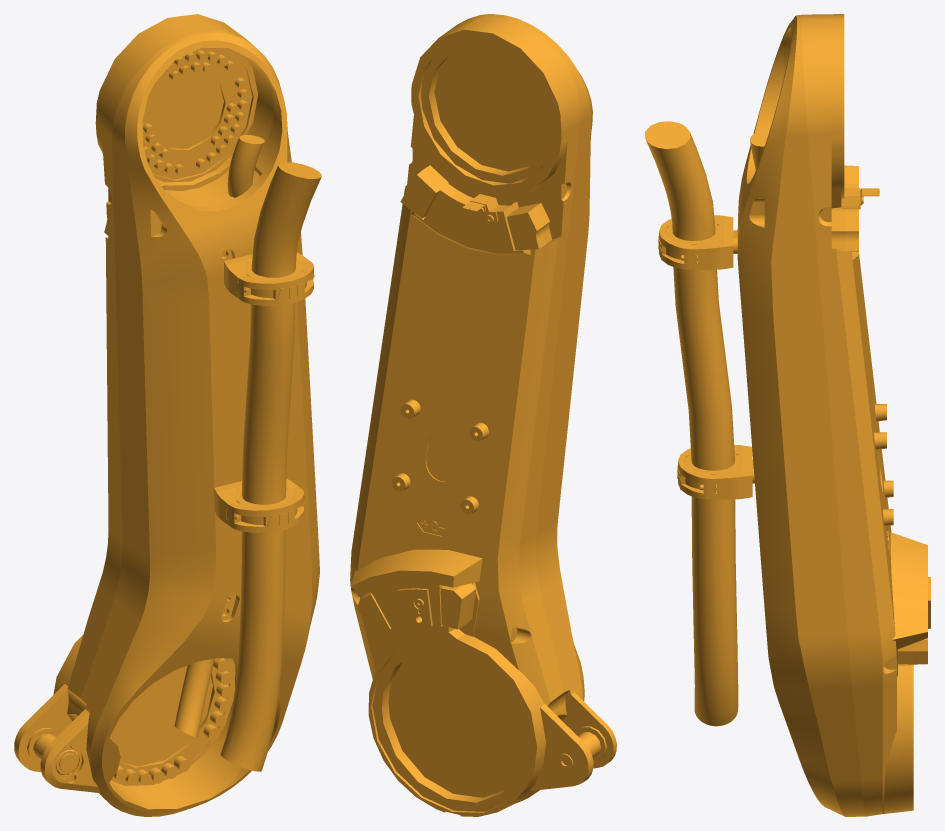
The model's file is ABBIRB6740_260_300Link2.dae.
3 views of the same model, side by side, from view 1: azimuth 30°, elevation 25°; view 2: azimuth 150°, elevation 25°; view 3: azimuth 270°, elevation 25° (orthographic). The views are drawn at different scales.
Visible parts, largest first — view 1: Cable.014; view 2: Cable.014; view 3: Cable.014.
Boxes of the visible parts, x1=… form: Cable.014: x1=14, y1=14, x2=321, y2=816; Cable.014: x1=350, y1=14, x2=616, y2=816; Cable.014: x1=645, y1=14, x2=930, y2=816.
Bounding box in the file's own units: 0.5375 × 0.5249 × 1.59.
